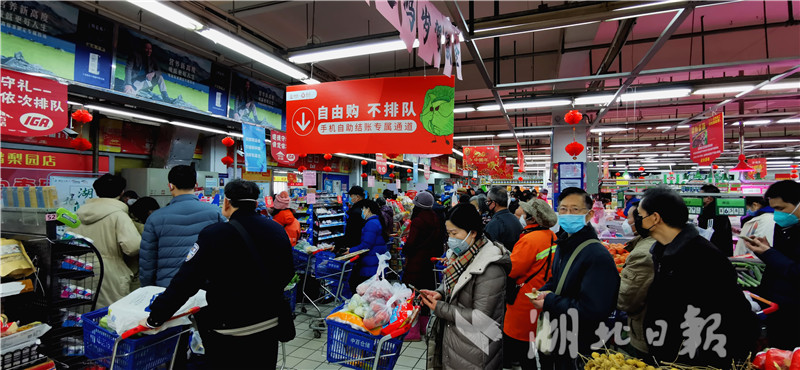rightmask: (632, 189, 697, 249), (441, 200, 482, 260), (554, 188, 599, 242), (767, 176, 800, 229)
